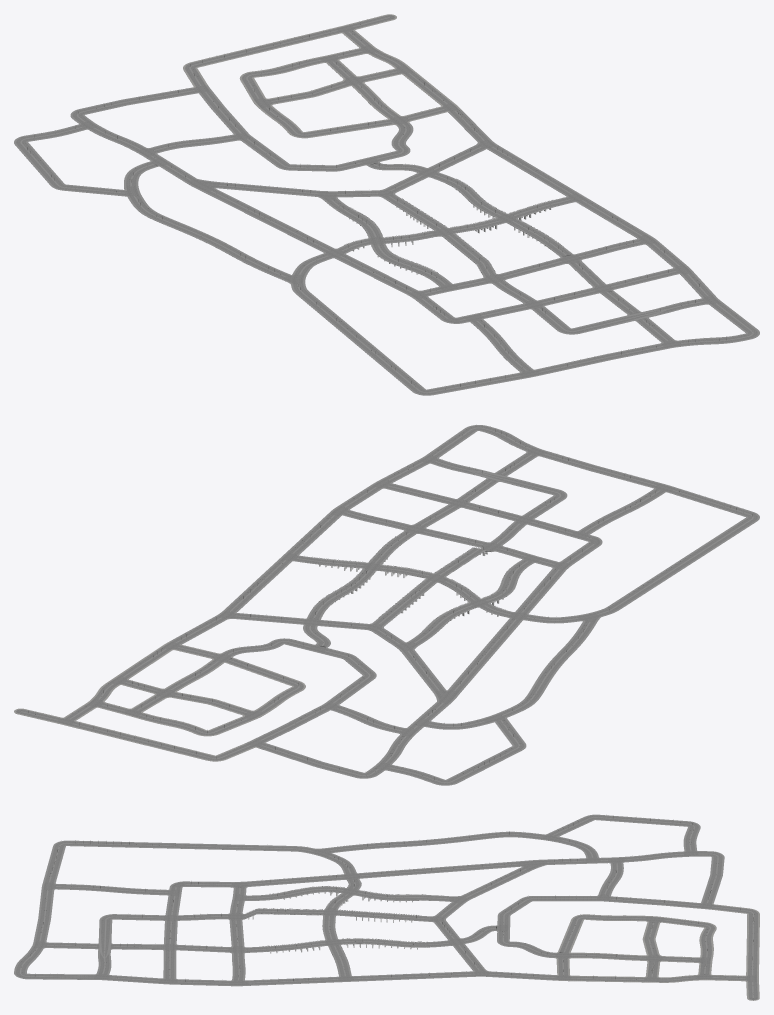
Rendered from road.glb.
3 views of the same model, one above another, from view 1: azimuth 30°, elevation 25°; view 2: azimuth 150°, elevation 25°; view 3: azimuth 270°, elevation 25° (orthographic). The views are drawn at different scales.
Parts seen in each view (by area): view 1: Road__2773494_LOD0_local_Two_Lane_0_9, Road__2773494_LOD0_local_Asphalt_Side_0_17, Road__2773494_LOD0_local_Asphalt_Middle_0_8, Road__2773494_LOD0_local_Lane_0_16, Road__2773494_LOD0_local_Pavement_Side_0_7; view 2: Road__2773494_LOD0_local_Two_Lane_0_9, Road__2773494_LOD0_local_Asphalt_Side_0_17, Road__2773494_LOD0_local_Asphalt_Middle_0_8, Road__2773494_LOD0_local_Lane_0_16, Road__2773494_LOD0_local_Pavement_Side_0_7; view 3: Road__2773494_LOD0_local_Two_Lane_0_9, Road__2773494_LOD0_local_Asphalt_Side_0_17, Road__2773494_LOD0_local_Asphalt_Middle_0_8, Road__2773494_LOD0_local_Lane_0_16, Road__2773494_LOD0_local_Pavement_Side_0_7, Road__2773494_LOD0_Railing_0_18.
Boxes of the visible parts, x1=… form: Road__2773494_LOD0_local_Two_Lane_0_9: x1=16, y1=15, x2=757, y2=394; Road__2773494_LOD0_local_Asphalt_Side_0_17: x1=14, y1=85, x2=759, y2=395; Road__2773494_LOD0_local_Asphalt_Middle_0_8: x1=20, y1=17, x2=753, y2=392; Road__2773494_LOD0_local_Lane_0_16: x1=80, y1=15, x2=719, y2=377; Road__2773494_LOD0_local_Pavement_Side_0_7: x1=183, y1=14, x2=460, y2=138; Road__2773494_LOD0_local_Two_Lane_0_9: x1=19, y1=426, x2=757, y2=784; Road__2773494_LOD0_local_Asphalt_Side_0_17: x1=171, y1=425, x2=759, y2=785; Road__2773494_LOD0_local_Asphalt_Middle_0_8: x1=21, y1=427, x2=753, y2=782; Road__2773494_LOD0_local_Lane_0_16: x1=16, y1=447, x2=675, y2=770; Road__2773494_LOD0_local_Pavement_Side_0_7: x1=14, y1=641, x2=305, y2=761; Road__2773494_LOD0_local_Two_Lane_0_9: x1=16, y1=815, x2=757, y2=997; Road__2773494_LOD0_local_Asphalt_Side_0_17: x1=14, y1=814, x2=724, y2=986; Road__2773494_LOD0_local_Asphalt_Middle_0_8: x1=19, y1=817, x2=754, y2=997; Road__2773494_LOD0_local_Lane_0_16: x1=33, y1=834, x2=757, y2=999; Road__2773494_LOD0_local_Pavement_Side_0_7: x1=555, y1=903, x2=759, y2=1000; Road__2773494_LOD0_Railing_0_18: x1=247, y1=883, x2=430, y2=968.
Bounding box in the file's own units: 686 × 19.8 × 1162.
Materials: 11 (10 with a texture image).
